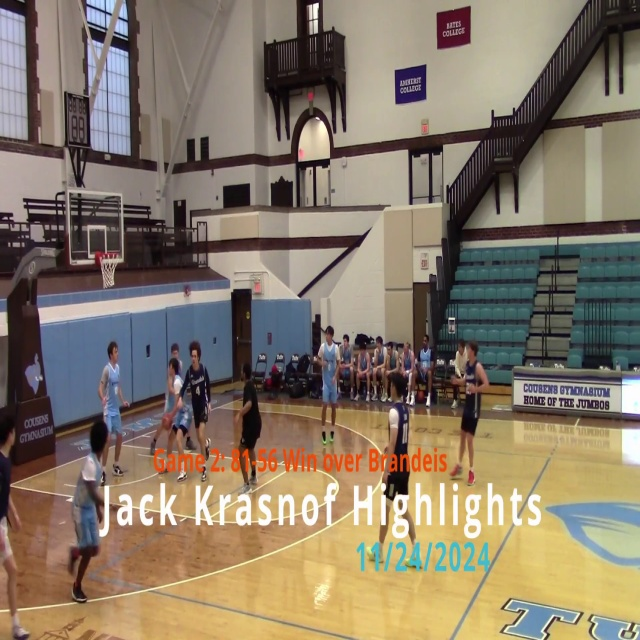Basketball: (172, 376, 183, 394)
